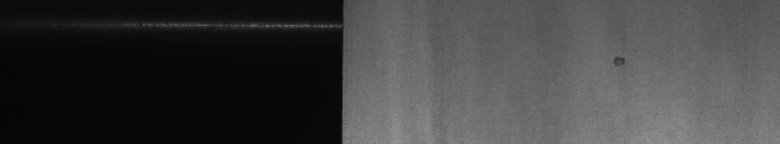fi: (611, 50, 627, 72)
